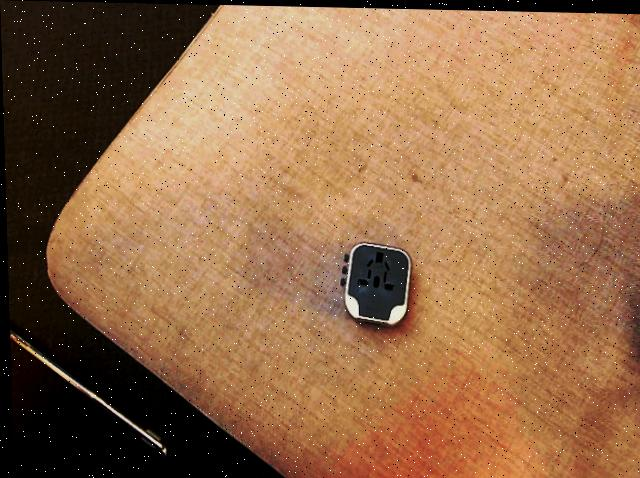adapter: (336, 239, 410, 326)
